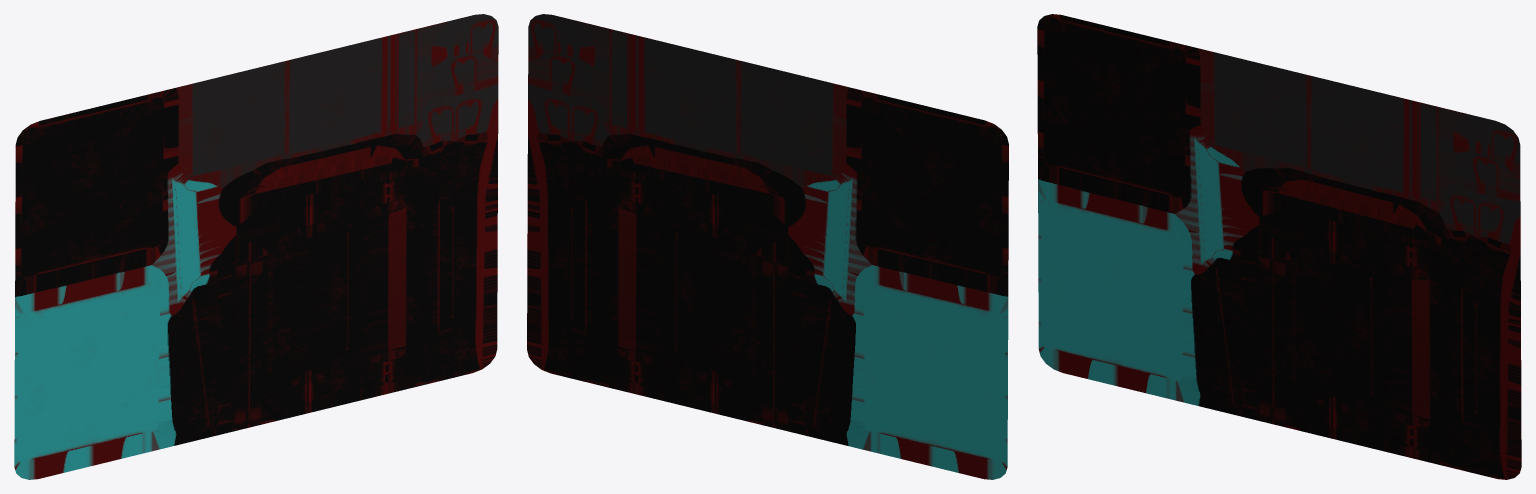
File: PDAScreen_Large.fbx
3 renders of one model, left to right at view 1: azimuth 30°, elevation 25°; view 2: azimuth 150°, elevation 25°; view 3: azimuth 330°, elevation 25°, orthographic.
Parts seen in each view (by area): view 1: polySurface35; view 2: polySurface35; view 3: polySurface35.
Boxes of the visible parts, x1,y1,x2,y2 form: polySurface35: (14,14,498,479); polySurface35: (527,14,1008,479); polySurface35: (1037,14,1521,479).
Size of the model in its own units: 1.84 by 1.31 by 0.00994.
Materials: 1 (1 with a texture image).
